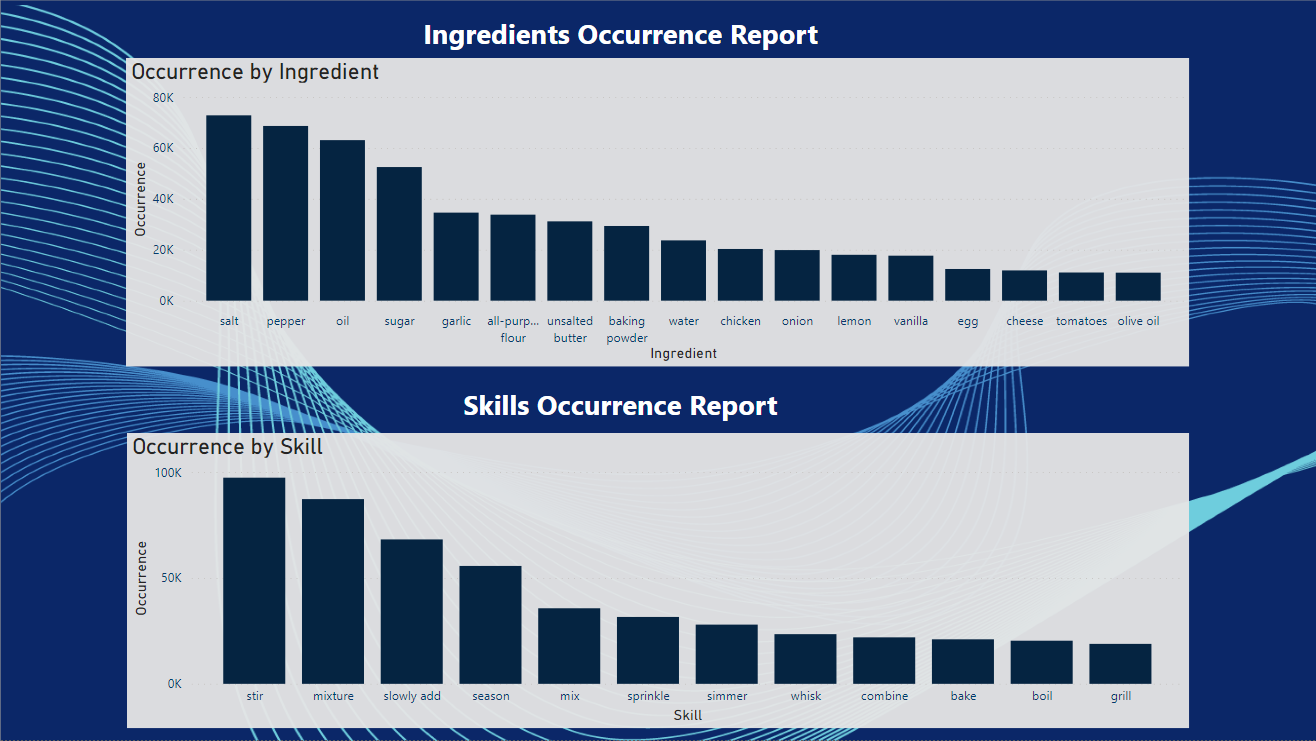

This screenshot's page, from the dashboard's own definition file:
{"tool":"powerbi","page":{"name":"Page 1","canvas":[1280,720],"ordinal":0},"visuals":[{"type":"textbox","box":[406.6,8.8,405.6,51.6],"z":0},{"type":"clusteredColumnChart","fields":{"Category":["Ingredients.Ingredient"],"Y":["Sum(Ingredients.Occurrence)"]},"box":[122.5,55.9,1034.3,300.1],"z":1000},{"type":"textbox","box":[445.7,369.3,325.8,51.5],"z":2000},{"type":"clusteredColumnChart","fields":{"Y":["Sum(Skills.Occurrence)"],"Category":["Skills.Skill"]},"box":[123.4,420.8,1033.4,286.8],"z":3000}]}

Visuals, with their boxes in screenshot pixels (x1, y1, x2, y2), scaled from the page's 1280x720 canvas onto the 1316x741 screenshot:
textbox: 418,9,835,62
clusteredColumnChart - Ingredients.Ingredient x Sum(Ingredients.Occurrence): 126,58,1189,366
textbox: 458,380,793,433
clusteredColumnChart - Sum(Skills.Occurrence) x Skills.Skill: 127,433,1189,728
